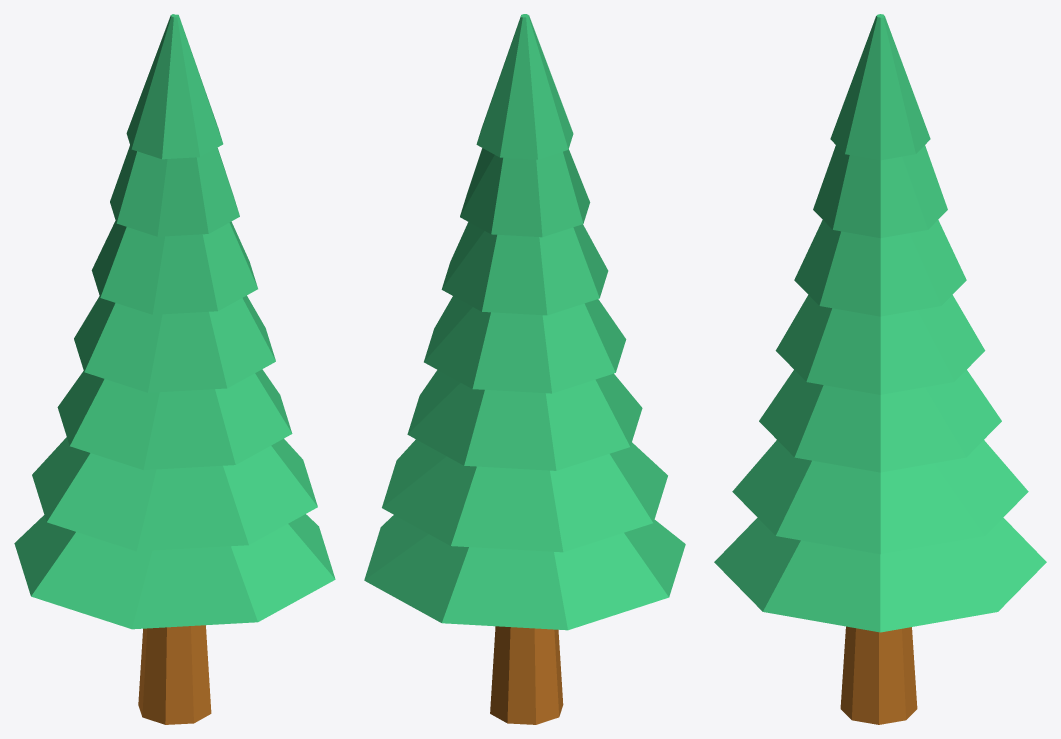
File: LowPolyTree.fbx
3 views of the same model, side by side, from view 1: azimuth 30°, elevation 25°; view 2: azimuth 150°, elevation 25°; view 3: azimuth 270°, elevation 25° (orthographic).
Visible parts, largest first — view 1: Cylinder.001; view 2: Cylinder.001; view 3: Cylinder.001.
Part boxes in pixels (bbox=[...]): Cylinder.001: bbox=[14, 14, 335, 724]; Cylinder.001: bbox=[364, 14, 685, 724]; Cylinder.001: bbox=[714, 14, 1046, 724].
Bounding box in the file's own units: 662 × 1523 × 662.
